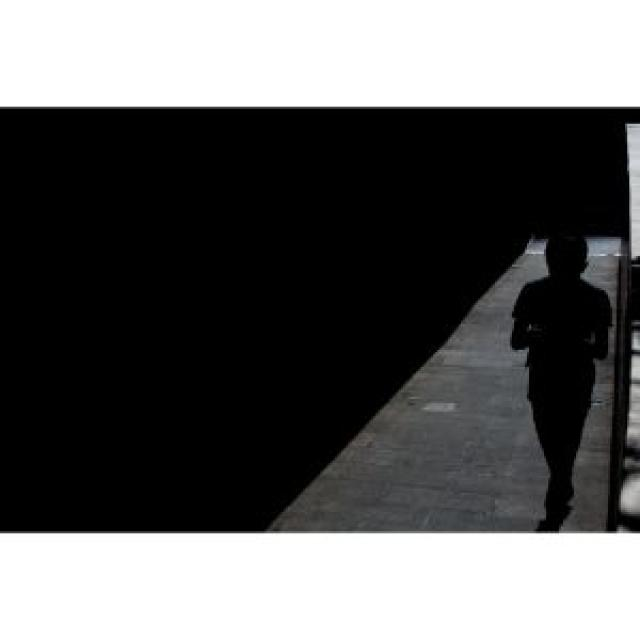nonfall: (508, 204, 612, 528)
